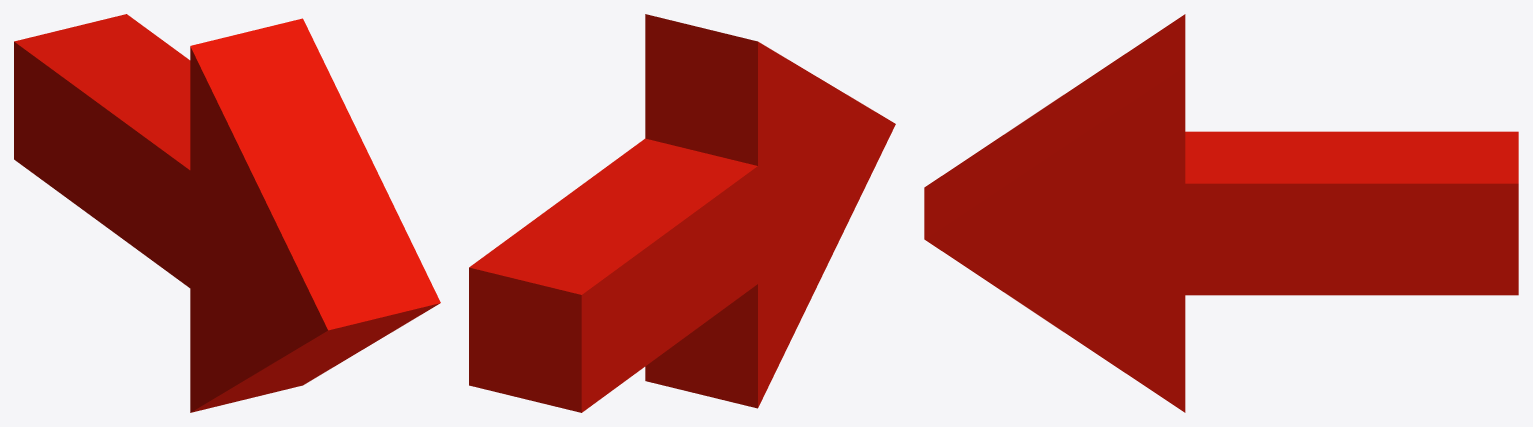
File: Arrow.fbx
3 views of the same model, side by side, from view 1: azimuth 30°, elevation 25°; view 2: azimuth 150°, elevation 25°; view 3: azimuth 270°, elevation 25° (orthographic). The views are drawn at different scales.
Visible parts, largest first — view 1: Cube.001; view 2: Cube.001; view 3: Cube.001.
Part boxes in pixels (x1,y1,x2,y2): Cube.001: (14, 14, 440, 412); Cube.001: (469, 14, 895, 412); Cube.001: (924, 14, 1518, 412).
Bounding box in the file's own units: 141 × 440 × 682.
